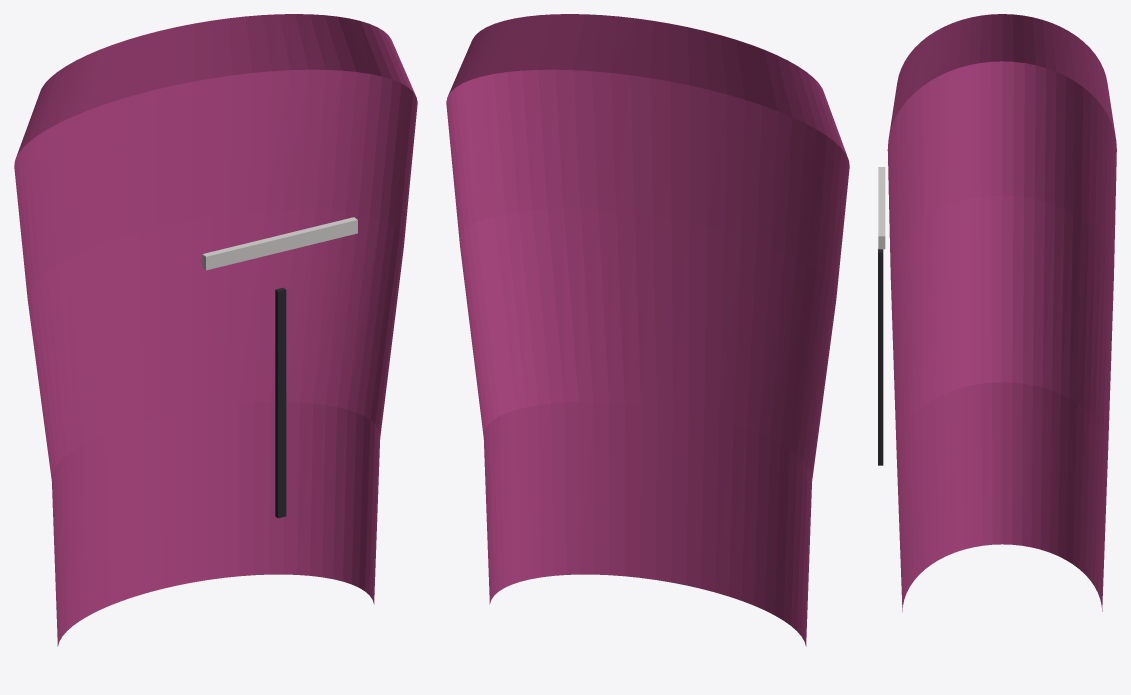
Rendered from singlet.glb.
The picture shows the model from 3 angles, left to right: view 1: azimuth 30°, elevation 25°; view 2: azimuth 150°, elevation 25°; view 3: azimuth 270°, elevation 25°; orthographic projection. The views are drawn at different scales.
Parts seen in each view (by area): view 1: GARMENT_TORSO, GARMENT_CHEST_MARK, GARMENT_ZIP; view 2: GARMENT_TORSO; view 3: GARMENT_TORSO, GARMENT_ZIP, GARMENT_CHEST_MARK.
Boxes of the visible parts, left/top/right/bottom form: GARMENT_TORSO: left=14, top=14, right=417, bottom=646; GARMENT_CHEST_MARK: left=202, top=217, right=357, bottom=270; GARMENT_ZIP: left=275, top=287, right=286, bottom=518; GARMENT_TORSO: left=446, top=14, right=849, bottom=646; GARMENT_TORSO: left=887, top=14, right=1116, bottom=611; GARMENT_ZIP: left=878, top=249, right=883, bottom=465; GARMENT_CHEST_MARK: left=878, top=167, right=885, bottom=249.
Bounding box in the file's own units: 0.71 × 0.98 × 0.4065.
